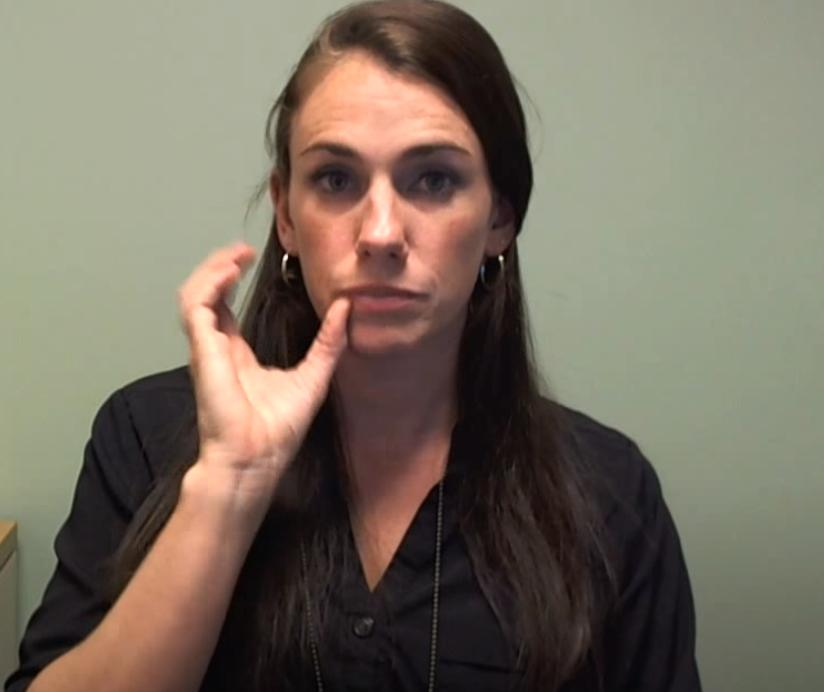drink: (170, 213, 387, 529)
